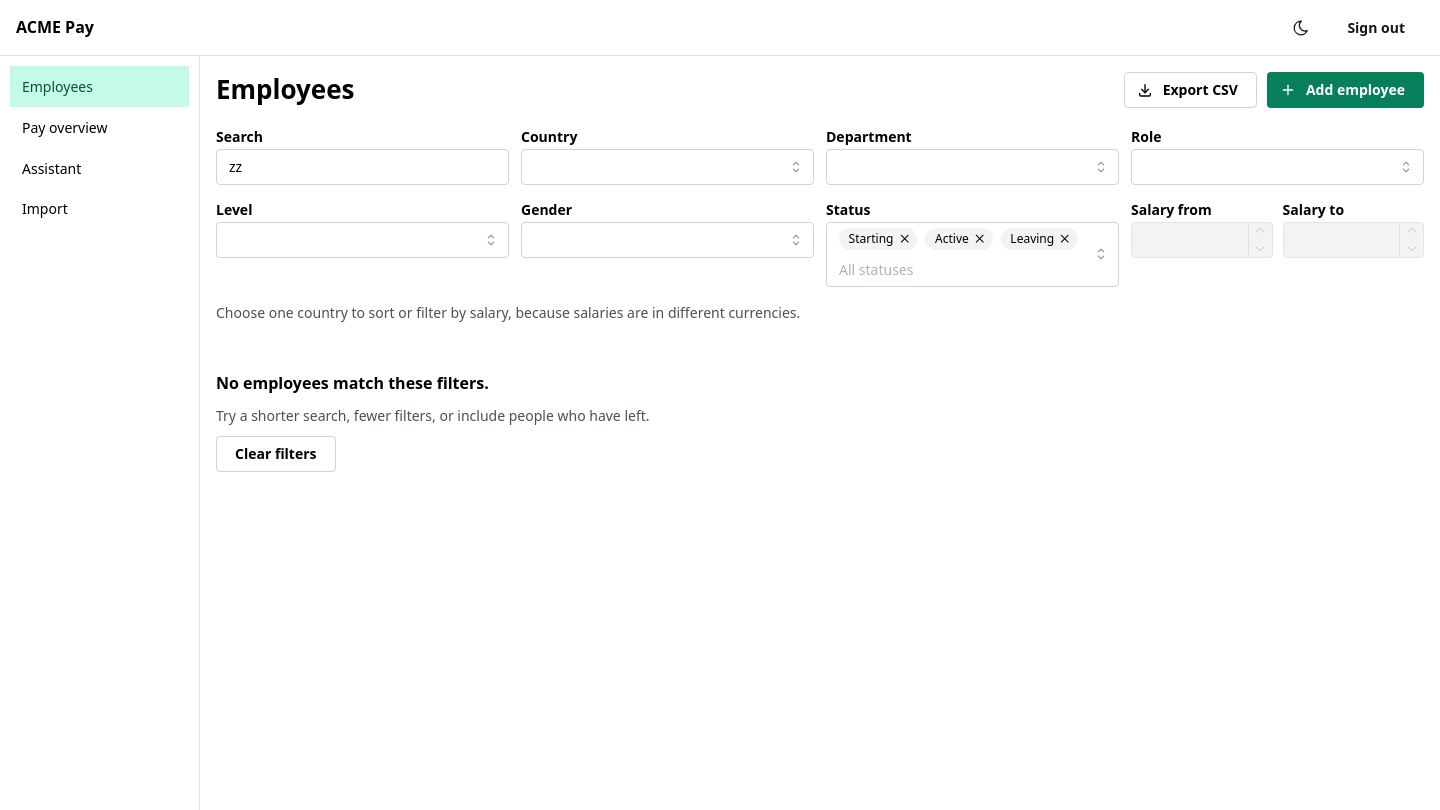
it: the search box follows the URL when it changes elsewhere
Expected: the field labelled "Search" holds "zz", [216,149,509,185]
Click the button "Clear filters". click: (276, 454)
box: [216,436,336,472]
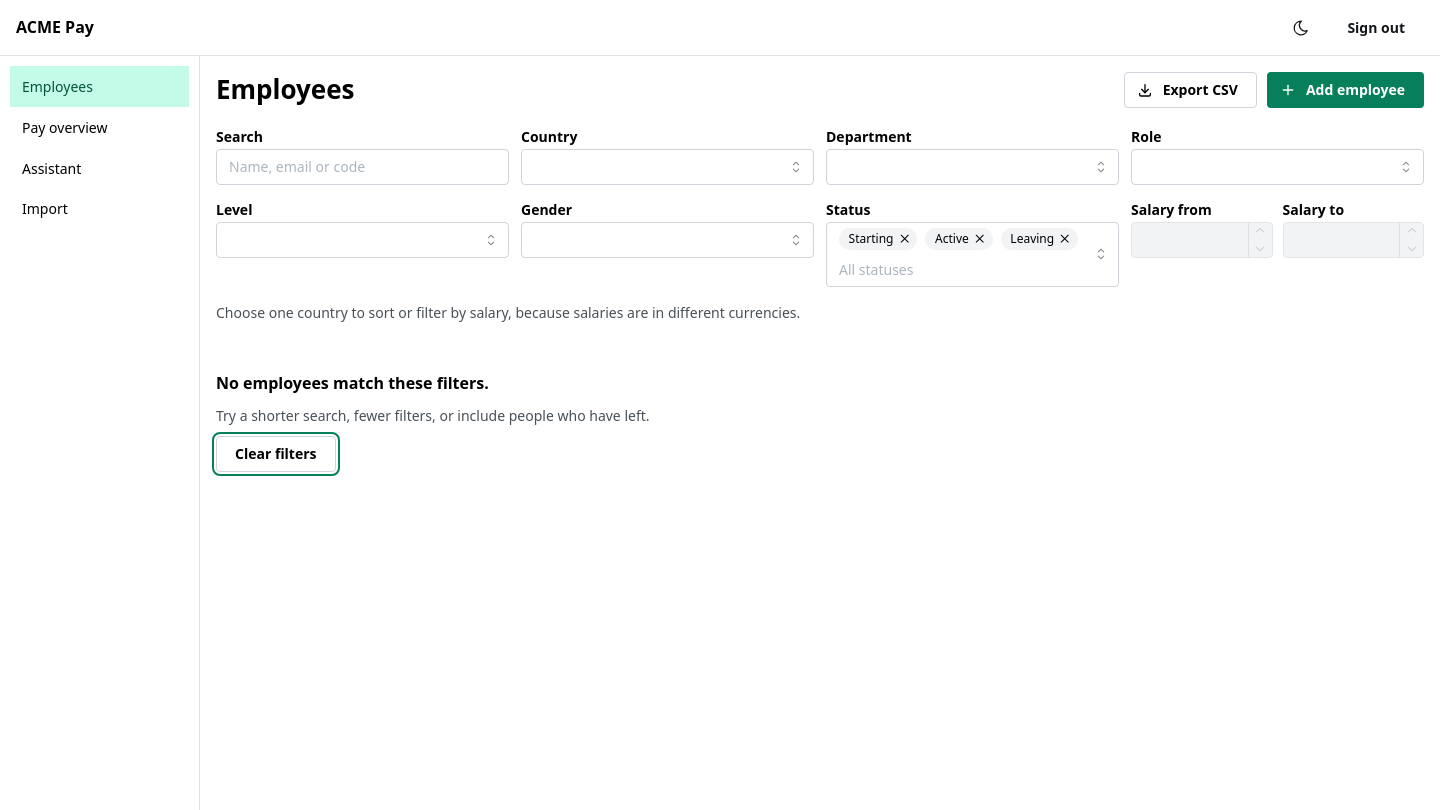
Expected: the field labelled "Search" is empty, [216,149,509,185]
